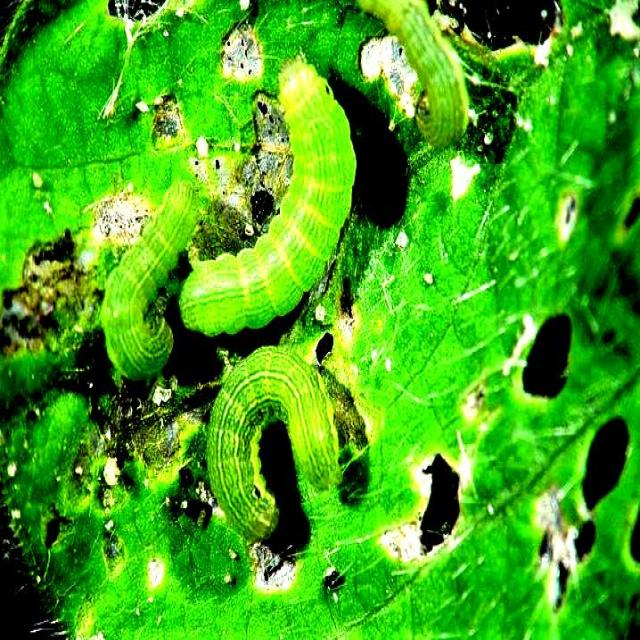armyworm: (178, 56, 356, 337), (210, 347, 344, 537), (102, 180, 204, 378)
